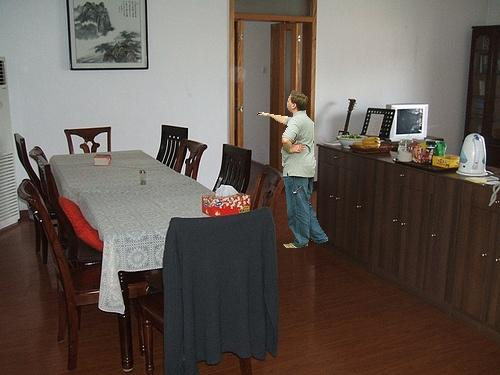tampered: (258, 91, 328, 248)
